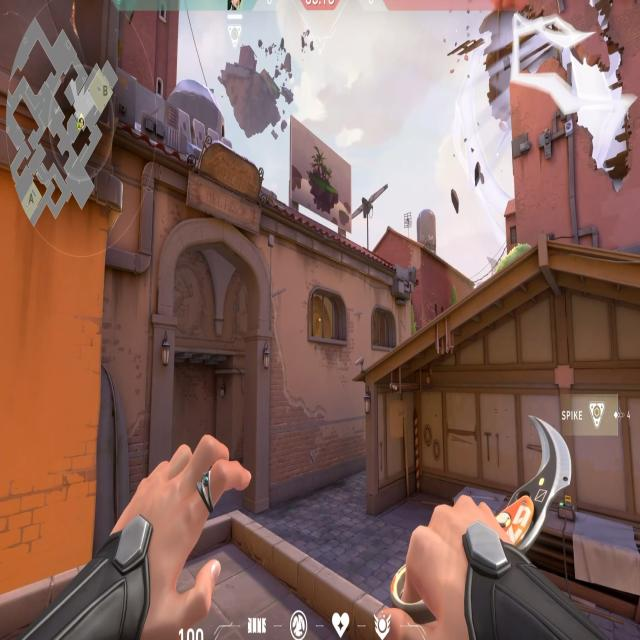B_Garage_Left: (363, 373, 485, 525)
Throwables: (307, 286, 349, 350), (371, 304, 397, 350)
